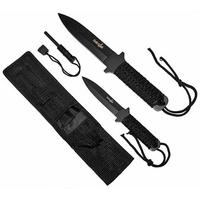knife: (56, 8, 173, 115), (77, 71, 158, 149)
